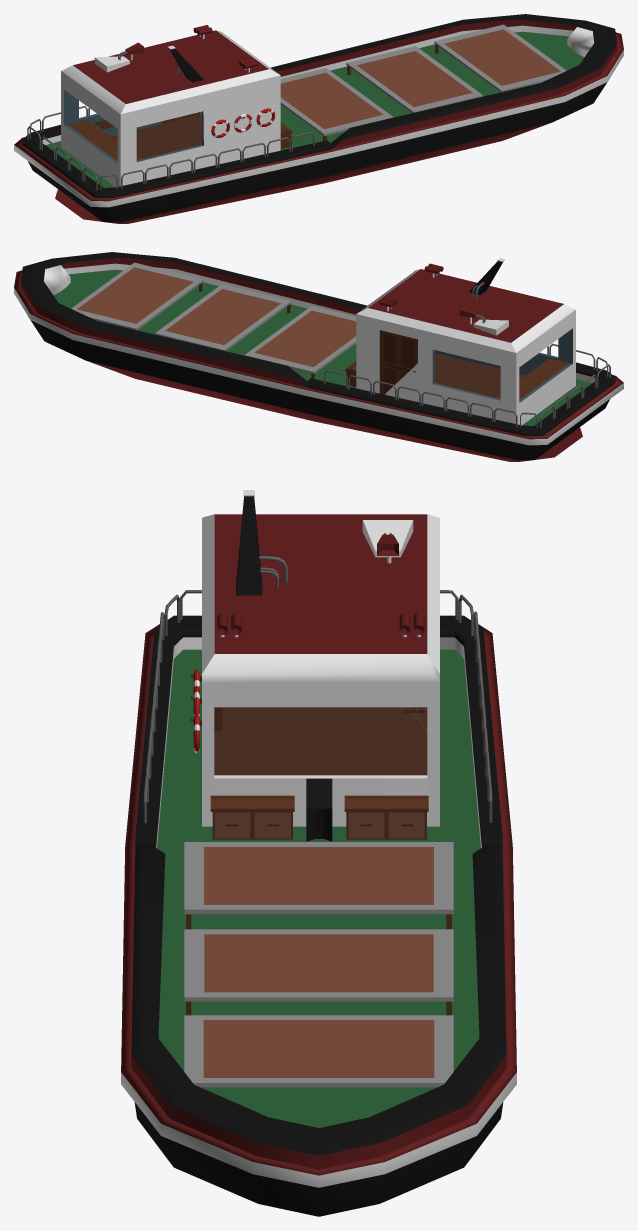
Rendered from AuraFinalBoat2.fbx.
3 views of the same model, one above another, from view 1: azimuth 30°, elevation 25°; view 2: azimuth 150°, elevation 25°; view 3: azimuth 270°, elevation 25° (orthographic). The views are drawn at different scales.
Parts seen in each view (by area): view 1: pCube89; view 2: pCube89; view 3: pCube89.
Boxes of the visible parts, x1,y1,x2,y2 form: pCube89: (14, 14, 623, 223); pCube89: (14, 252, 623, 461); pCube89: (121, 490, 516, 1216).
Size of the model in its own units: 11.99 by 3.31 by 3.61.
